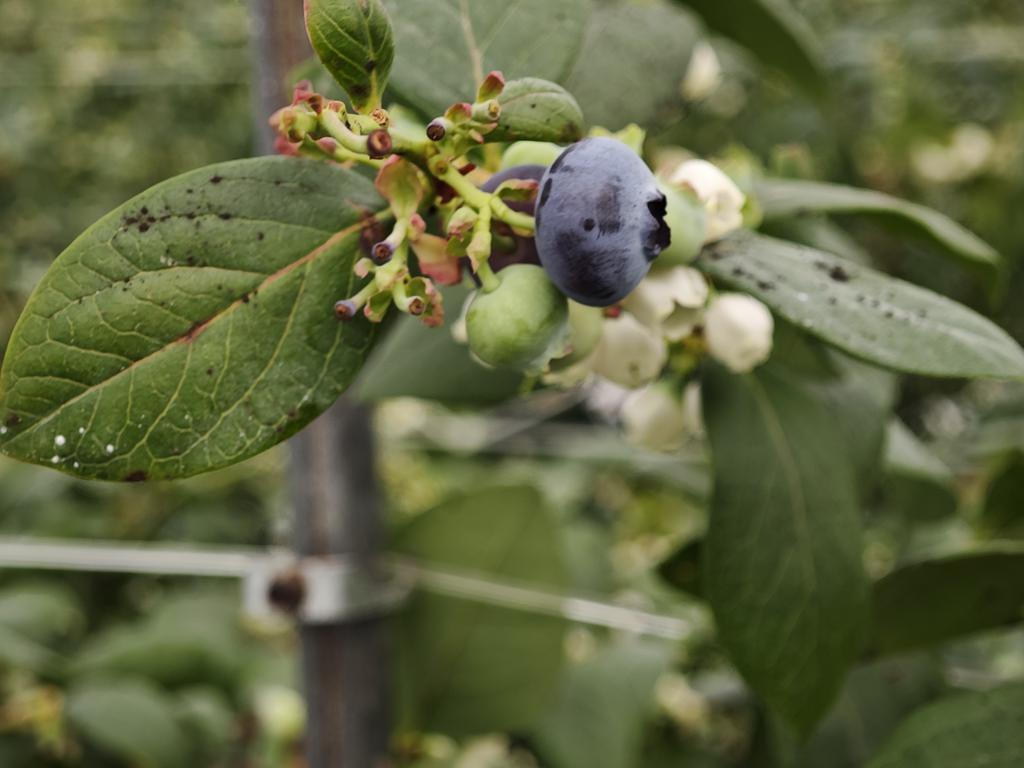RipeBlueBerry: (531, 134, 674, 310)
